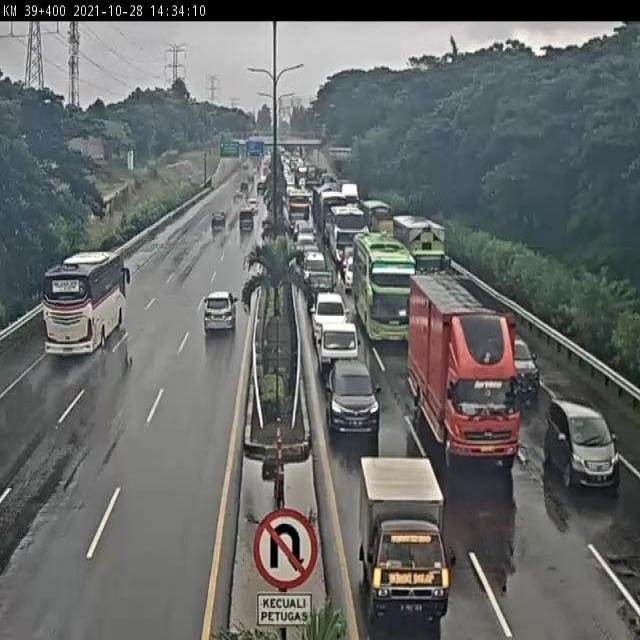big bus: (45, 254, 131, 354), (350, 229, 411, 335), (330, 208, 366, 265), (286, 190, 312, 230)
big truck: (409, 275, 524, 464), (392, 216, 453, 292), (319, 194, 345, 238)
car: (354, 455, 457, 620), (545, 402, 620, 490), (326, 362, 380, 438), (496, 331, 542, 404), (314, 314, 357, 366), (199, 288, 240, 337), (309, 292, 348, 331), (303, 269, 336, 304), (236, 208, 258, 237), (208, 209, 229, 235), (303, 250, 328, 270), (342, 252, 357, 285), (297, 234, 317, 258), (293, 218, 316, 238)
